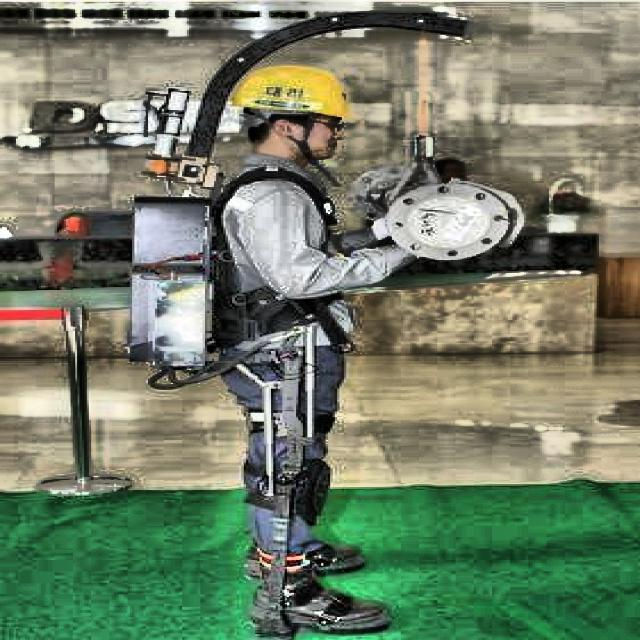helmet: (223, 57, 364, 167)
